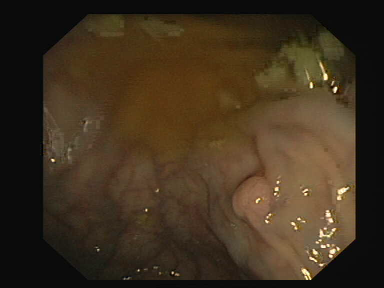polyp: (219, 162, 283, 225)
